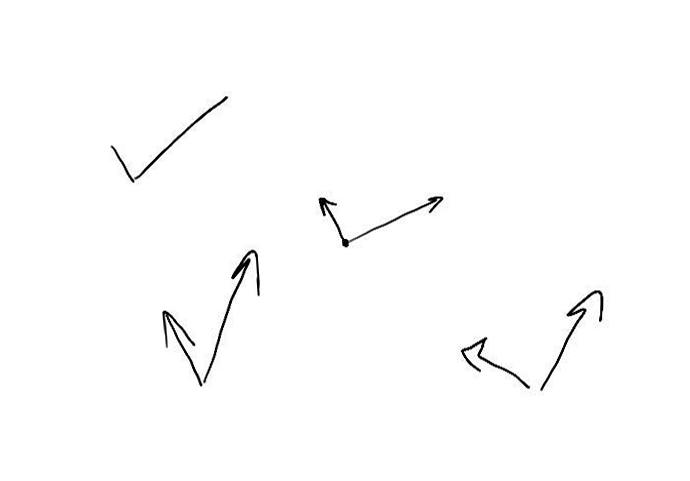arrow: (205, 250, 261, 382), (540, 288, 606, 388), (351, 195, 441, 242), (459, 336, 531, 390), (161, 308, 204, 386), (317, 196, 344, 238)
arrownohead: (135, 93, 228, 176), (109, 146, 134, 182)
